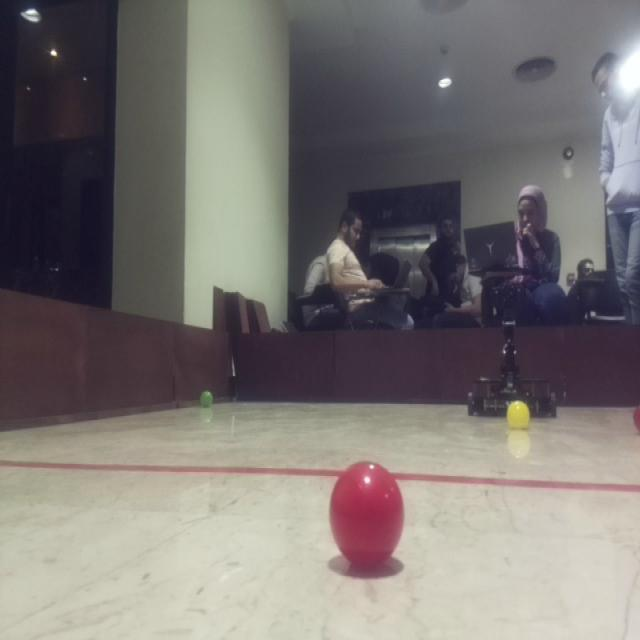ball: (329, 459, 409, 575), (503, 396, 534, 435), (197, 388, 216, 410)
